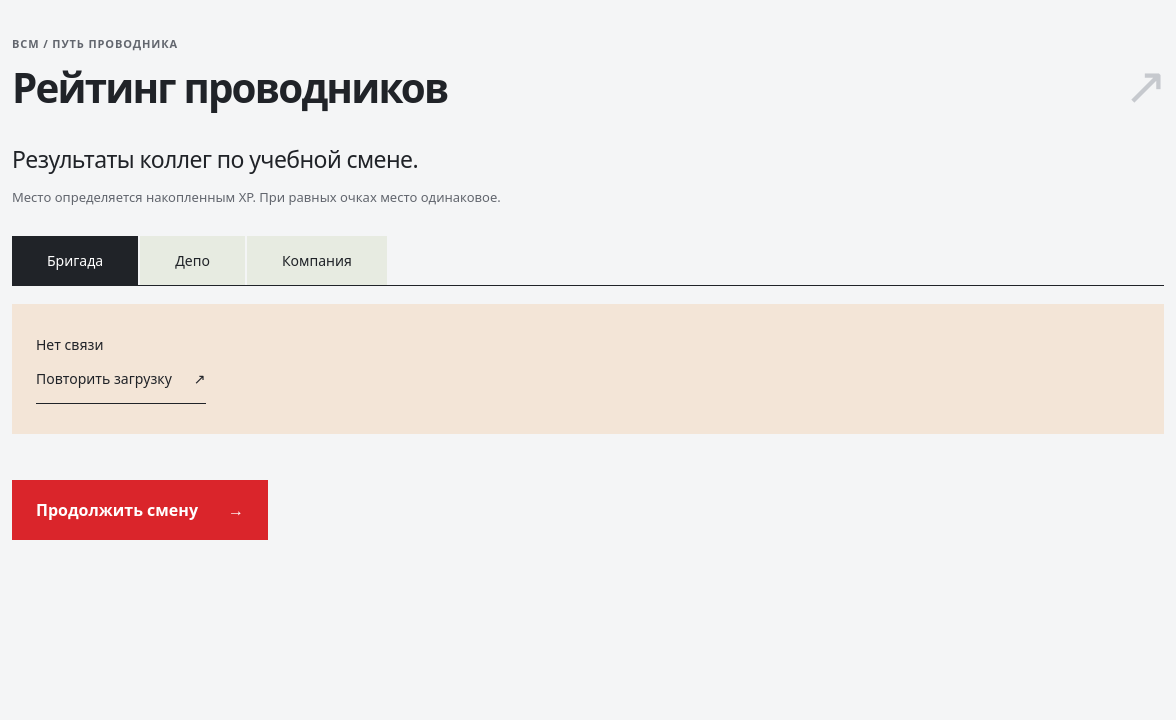
Scenario: conductor progress › requests group-specific real rankings and retries a failed load
Expected: the message shows "Нет связи", x1=36 y1=335 x2=104 y2=354
Click the button "Повторить загрузку ↗" at (121, 380), box x1=36 y1=356 x2=206 y2=404
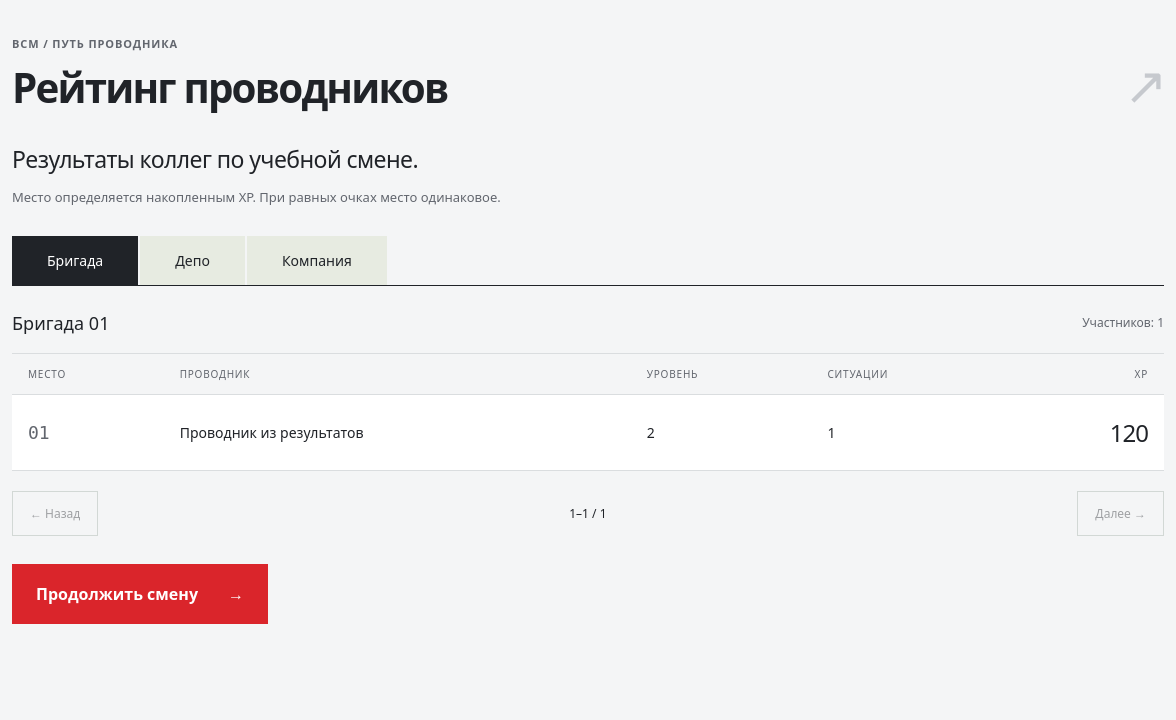
Now the column heading "Проводник из результатов" is shown, box x1=164 y1=395 x2=631 y2=470
Click the button "Компания" at (317, 260), box x1=247 y1=236 x2=387 y2=285
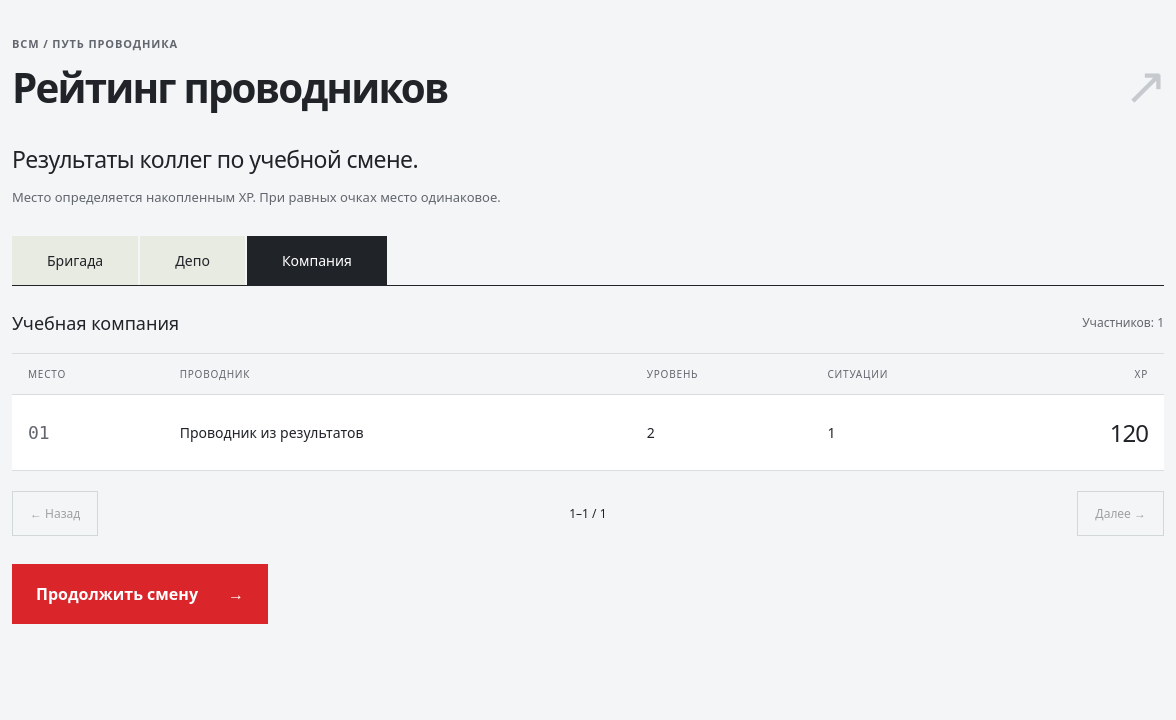
Now the text "Учебная компания" is shown, box x1=12 y1=311 x2=179 y2=335
